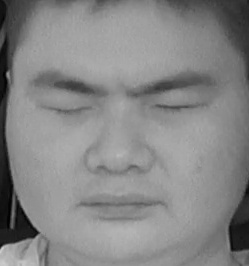blink: (39, 92, 92, 126), (153, 94, 197, 124)
mouth: (75, 185, 168, 232)
